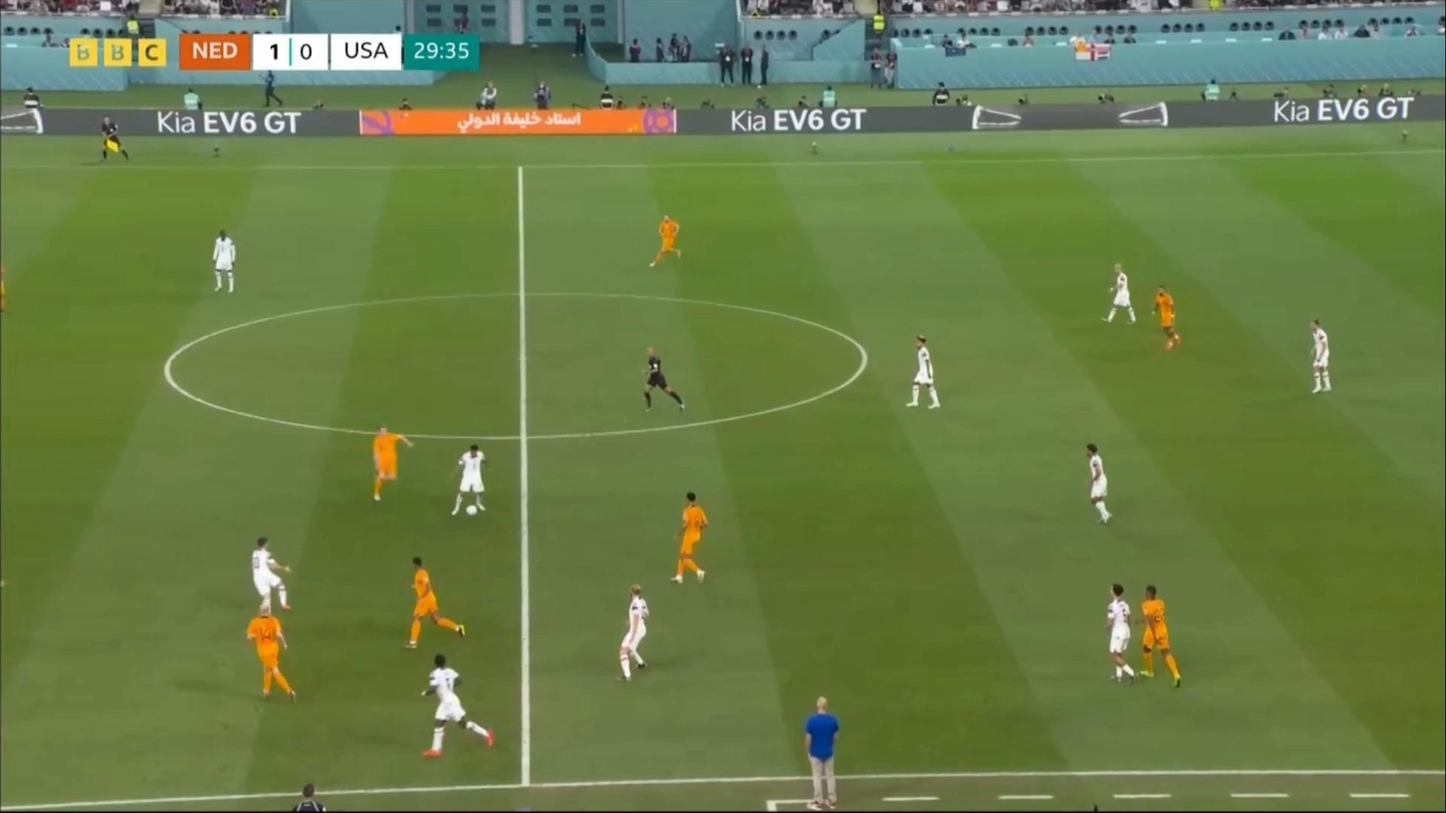Ball: (464, 499, 479, 519)
Player: (414, 649, 495, 762), (403, 556, 466, 650), (244, 603, 302, 702), (1131, 585, 1181, 690), (608, 585, 655, 688), (667, 491, 716, 588), (1099, 586, 1146, 685), (246, 536, 297, 621), (365, 421, 413, 508), (804, 696, 840, 811), (449, 440, 494, 522), (1080, 442, 1118, 527), (1302, 316, 1337, 399), (905, 335, 942, 412), (1100, 261, 1136, 330), (1149, 283, 1183, 354), (209, 228, 242, 299), (647, 212, 684, 274)
Ref: (641, 345, 686, 417), (99, 111, 129, 164)
